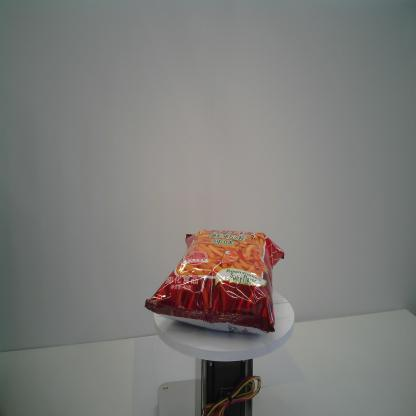Puffed Food: (144, 229, 285, 336)
